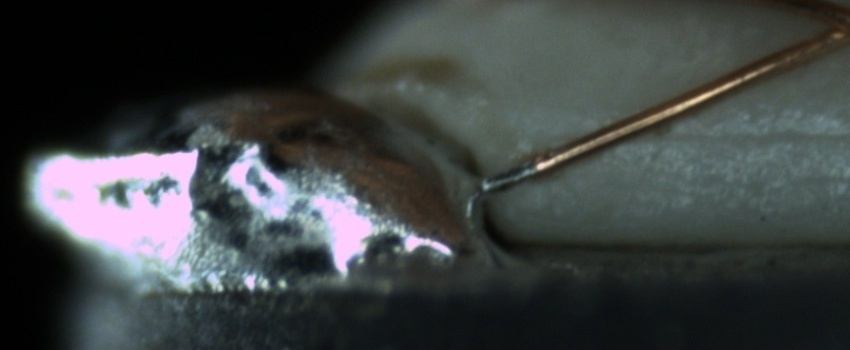CL: (806, 2, 849, 46)
DL: (619, 102, 845, 170)
TS: (481, 159, 540, 193)
